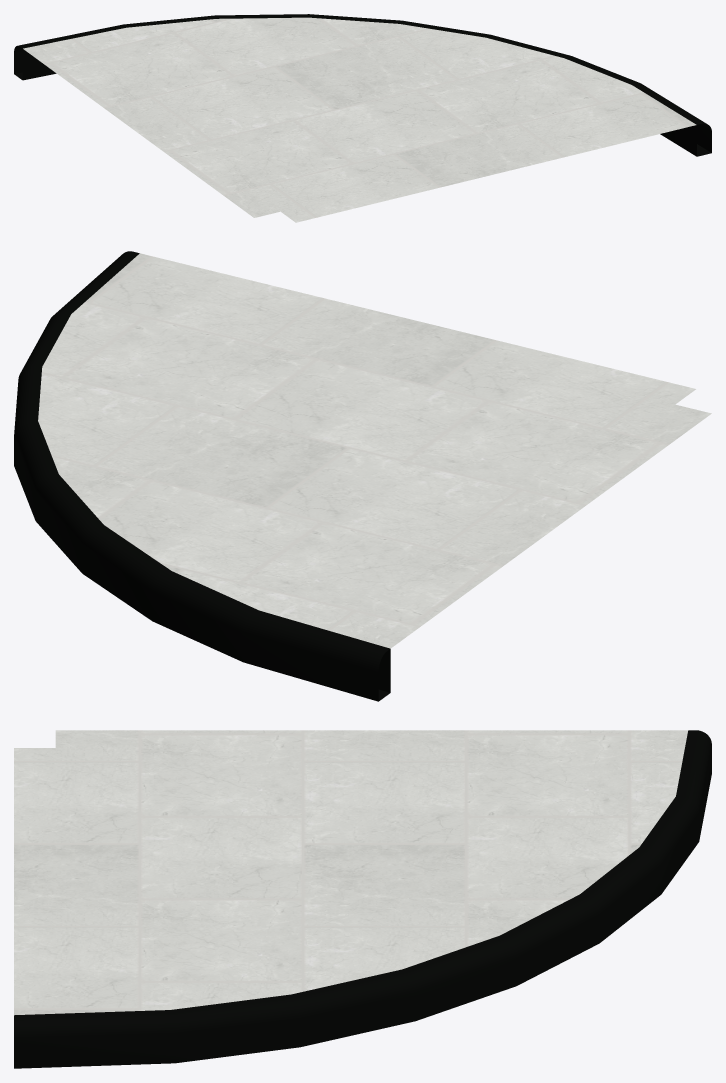
The model's file is curva para todas las esquinas.fbx.
3 renders of one model, top to bottom at view 1: azimuth 30°, elevation 25°; view 2: azimuth 150°, elevation 25°; view 3: azimuth 270°, elevation 25°, orthographic. The views are drawn at different scales.
Parts seen in each view (by area): view 1: Plane.002; view 2: Plane.002; view 3: Plane.002.
Part boxes in pixels (x1,y1,x2,y2): Plane.002: [14, 14, 711, 222]; Plane.002: [14, 251, 711, 701]; Plane.002: [14, 730, 711, 1068].
Bounding box in the file's own units: 275 × 18.89 × 275.
2 materials, 2 textured.
